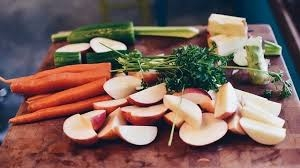kitchen_waste: (117, 42, 223, 96), (7, 78, 113, 124), (3, 61, 115, 95), (200, 9, 252, 59), (177, 109, 231, 149), (243, 35, 280, 88), (161, 92, 205, 128), (238, 115, 289, 145), (110, 120, 163, 148), (119, 98, 172, 124), (61, 111, 101, 145), (124, 82, 169, 106), (213, 80, 240, 119)
